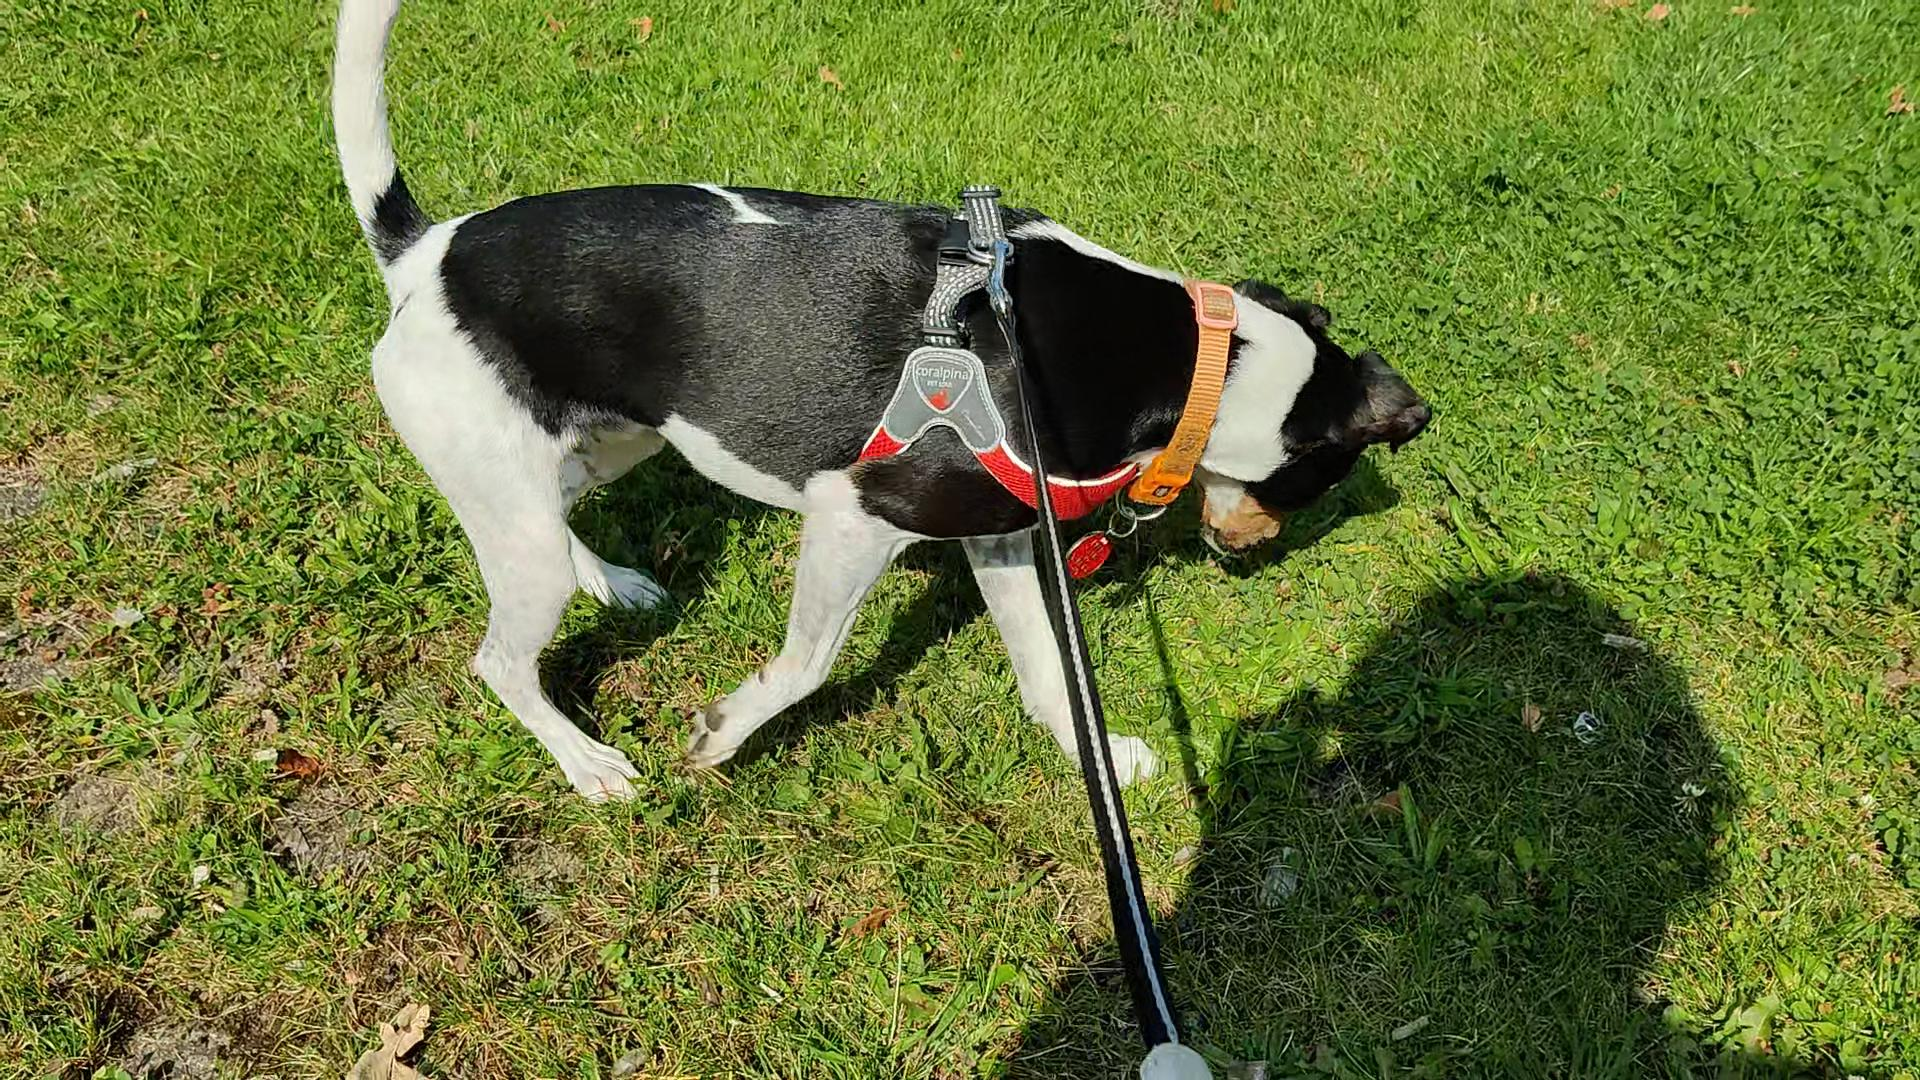Dog: (320, 0, 1440, 810)
